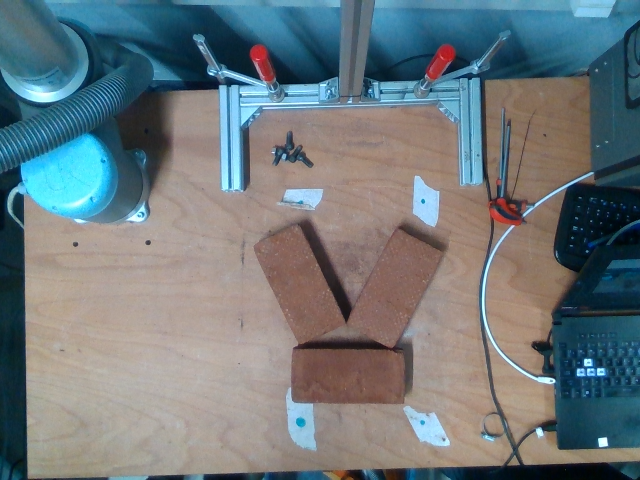brick: (348, 230, 443, 349), (253, 224, 342, 343), (295, 350, 403, 402)
